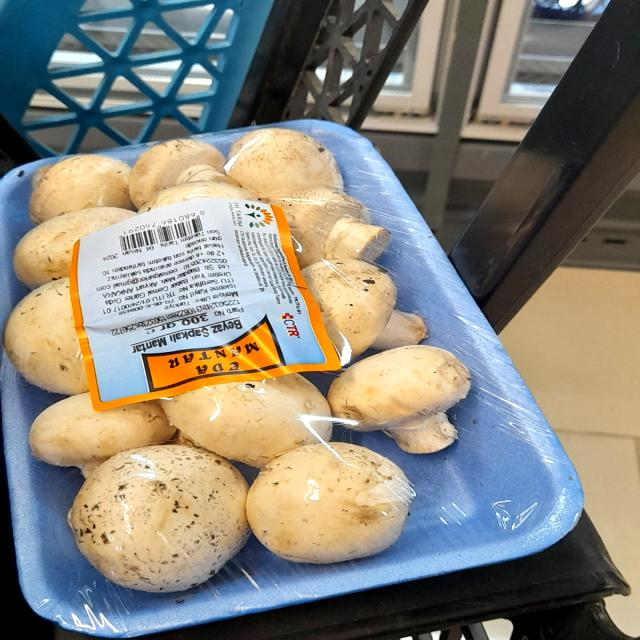mushroom: (57, 444, 252, 598), (248, 435, 417, 571), (327, 338, 488, 451)
